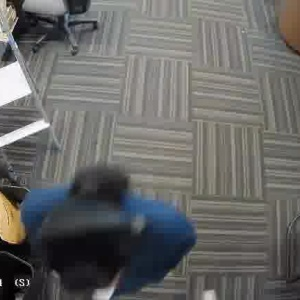person: (16, 176, 187, 289)
